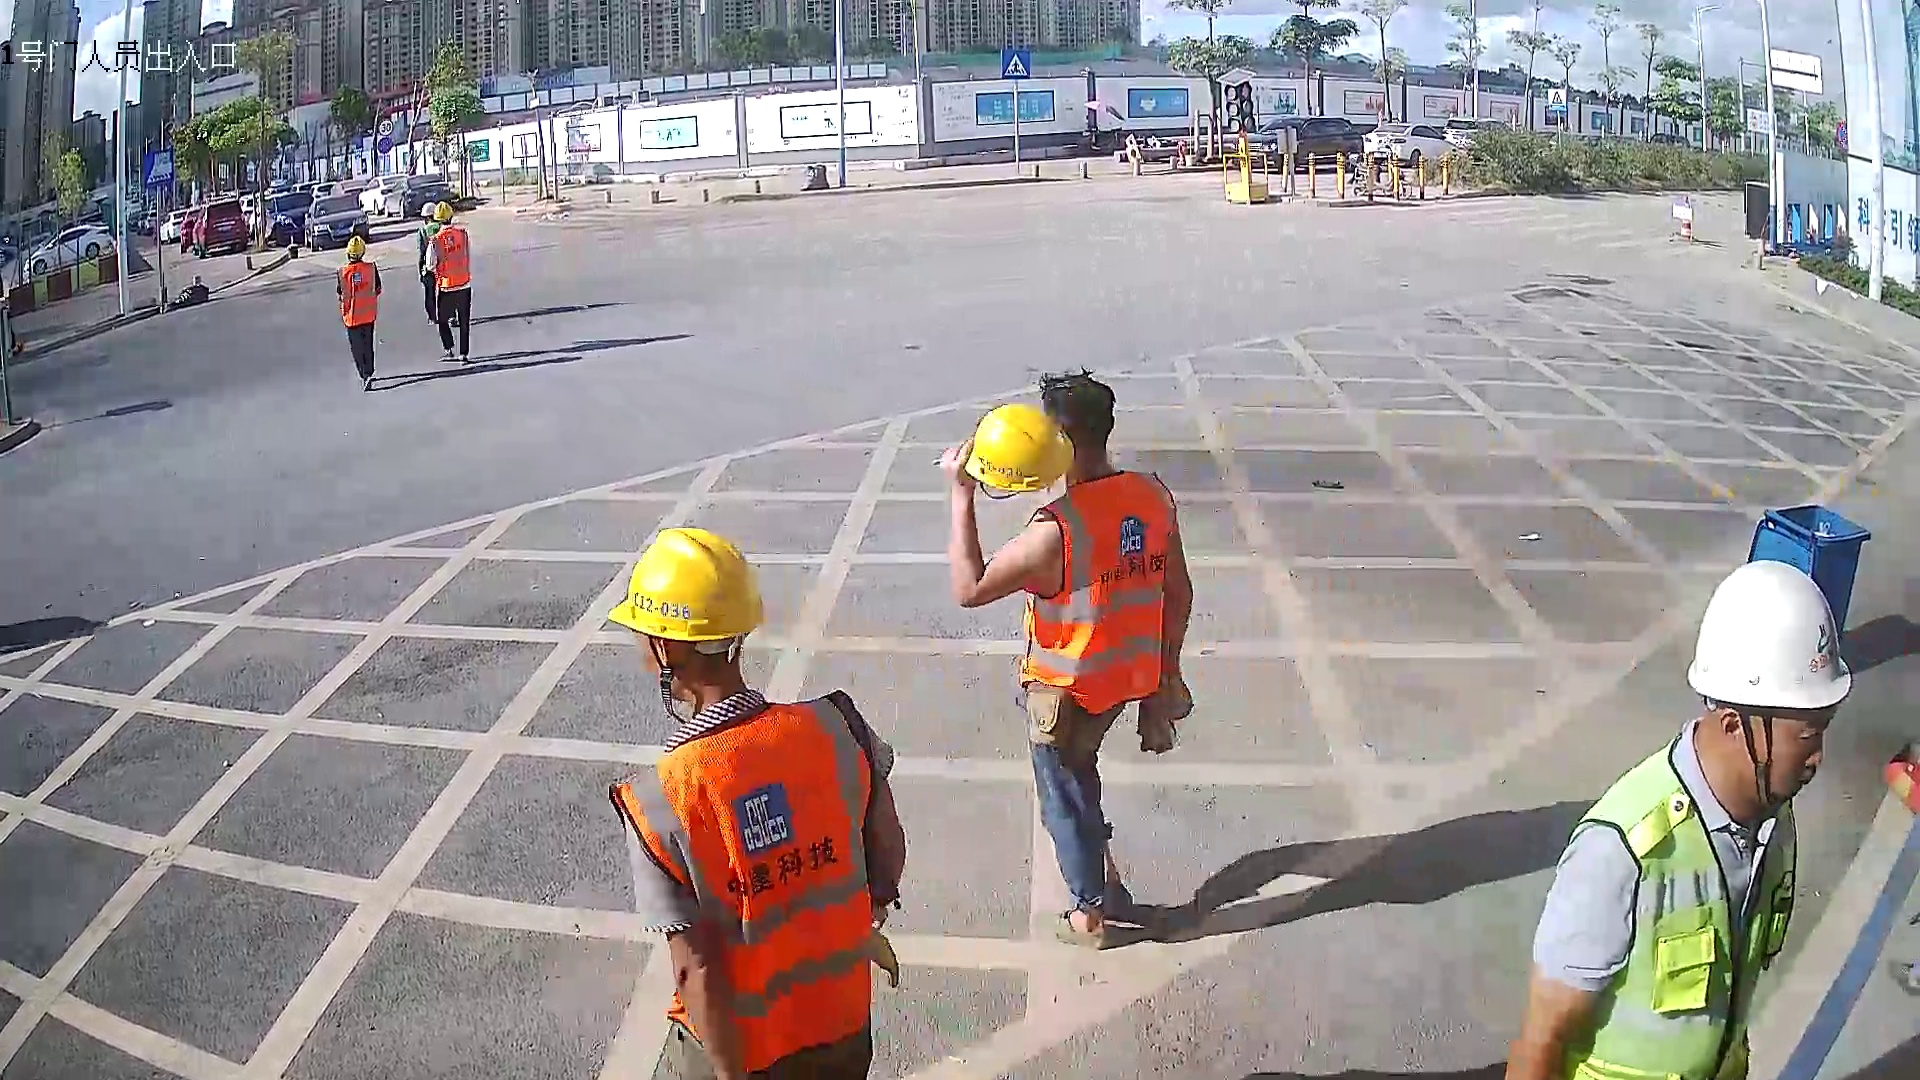head: (1040, 366, 1120, 482)
person: (1500, 553, 1858, 1080), (599, 521, 910, 1080), (934, 364, 1198, 960), (424, 200, 475, 367), (336, 234, 383, 394)
reflective_vest: (601, 693, 875, 1080), (1557, 730, 1802, 1080), (1014, 470, 1178, 716), (429, 225, 472, 292), (337, 261, 379, 328)
safety_helmet: (1682, 554, 1853, 813), (601, 523, 772, 710), (957, 403, 1074, 496), (346, 234, 367, 264), (432, 200, 455, 226), (420, 201, 435, 222)
